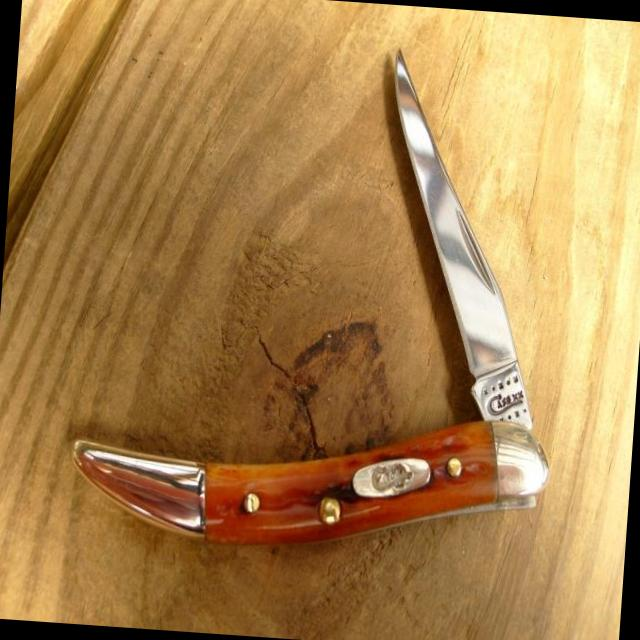Knife: (74, 52, 548, 543)
